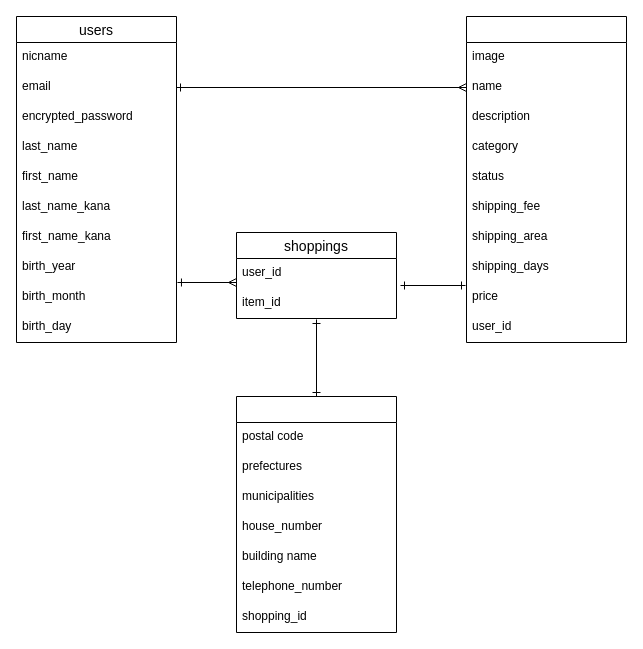
Image size: 643x649. Some labels were removed from this diagram. The box of each missing label's shape, as (x1, y1, x2, y2) in pixels:
addresses: (236, 396, 396, 632)
items: (466, 16, 626, 342)
